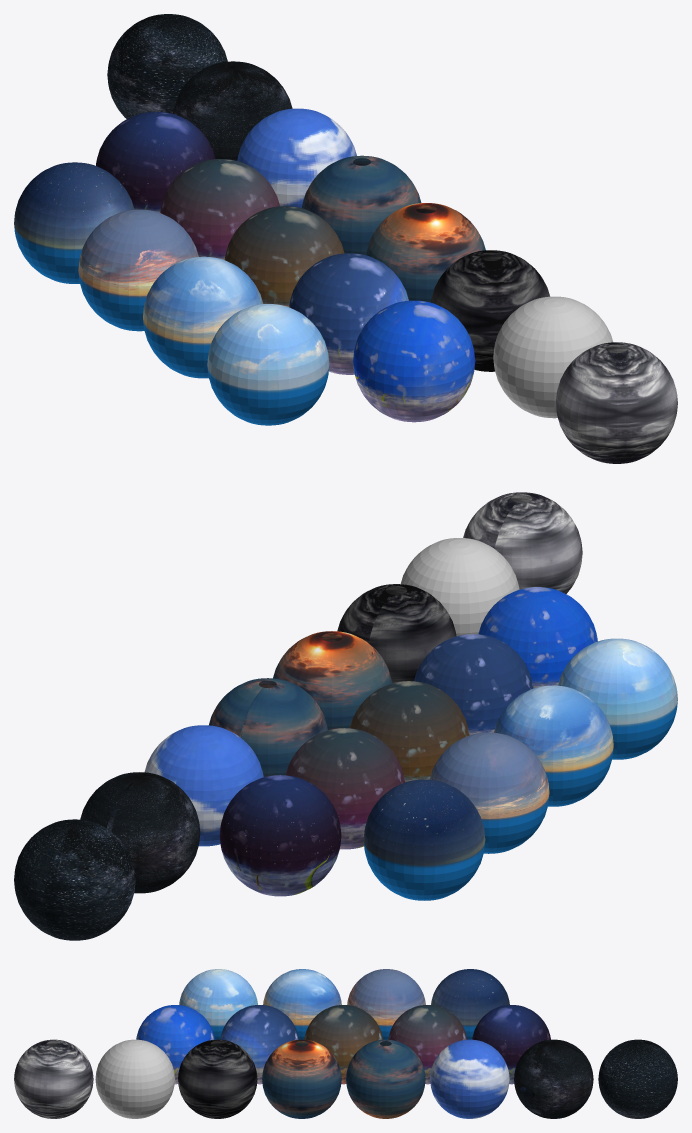
File: GorillaTagSkys.fbx
The picture shows the model from 3 angles, top to bottom: view 1: azimuth 30°, elevation 25°; view 2: azimuth 150°, elevation 25°; view 3: azimuth 270°, elevation 25°; orthographic projection. The views are drawn at different scales.
Parts seen in each view (by area): view 1: SkyBox_05__Clouds_, SkyBox_07__Forest_, SkyBox_01__BEACH_, SkyBox_03__BEACH_, SkyBox_04__BEACH_, SkyBox_02__BEACH_, SkyBox_06__Forest_, SkyBox_08__Forest_, SkyBox_01__Clouds_, SkyBox_05__Forest_, SkyBox_03__Clouds_, SkyBox_04__Clouds_ (+5 smaller); view 2: SkyBox_08__Forest_, SkyBox_04__BEACH_, SkyBox_04__Clouds_, SkyBox_04__Forest_, SkyBox_02__BEACH_, SkyBox_03__BEACH_, SkyBox_01__BEACH_, SkyBox_07__Forest_, SkyBox_03__Clouds_, SkyBox_03__Forest_, SkyBox_05__Clouds_, SkyBox_02__Clouds_ (+5 smaller); view 3: SkyBox_01__Forest_, SkyBox_02__Forest_, SkyBox_07__Forest_, SkyBox_08__Forest_, SkyBox_03__Forest_, SkyBox_04__Forest_, SkyBox_05__Forest_, SkyBox_06__Forest_, SkyBox_01__BEACH_, SkyBox_03__BEACH_, SkyBox_02__BEACH_, SkyBox_04__BEACH_ (+5 smaller).
Boxes of the visible parts, x1,y1,x2,y2 form: SkyBox_05__Clouds_: (353,300,475,422); SkyBox_07__Forest_: (556,342,677,463); SkyBox_01__BEACH_: (207,304,329,425); SkyBox_03__BEACH_: (78,209,198,331); SkyBox_04__BEACH_: (14,162,134,283); SkyBox_02__BEACH_: (143,256,263,378); SkyBox_06__Forest_: (493,296,612,418); SkyBox_08__Forest_: (107,14,227,118); SkyBox_01__Clouds_: (289,253,408,374); SkyBox_05__Forest_: (431,250,549,371); SkyBox_03__Clouds_: (160,159,279,259); SkyBox_04__Clouds_: (96,111,215,212); SkyBox_08__Forest_: (14,819,135,940); SkyBox_04__BEACH_: (363,779,485,900); SkyBox_04__Clouds_: (219,775,341,896); SkyBox_04__Forest_: (80,772,200,893); SkyBox_02__BEACH_: (494,685,613,806); SkyBox_03__BEACH_: (429,732,549,853); SkyBox_01__BEACH_: (558,638,677,759); SkyBox_07__Forest_: (463,492,582,593); SkyBox_03__Clouds_: (285,728,404,849); SkyBox_03__Forest_: (144,725,263,846); SkyBox_05__Clouds_: (478,587,597,688); SkyBox_02__Clouds_: (350,681,469,782); SkyBox_01__Forest_: (262,1039,341,1118); SkyBox_02__Forest_: (346,1039,425,1118); SkyBox_07__Forest_: (14,1039,93,1118); SkyBox_08__Forest_: (598,1039,677,1118); SkyBox_03__Forest_: (430,1039,509,1118); SkyBox_04__Forest_: (514,1039,593,1118); SkyBox_05__Forest_: (178,1039,257,1118); SkyBox_06__Forest_: (95,1039,174,1118); SkyBox_01__BEACH_: (179,969,257,1039); SkyBox_03__BEACH_: (347,969,425,1039); SkyBox_02__BEACH_: (263,969,341,1039); SkyBox_04__BEACH_: (431,969,509,1039).
Bounding box in the file's own units: 2014 × 650 × 5420.
